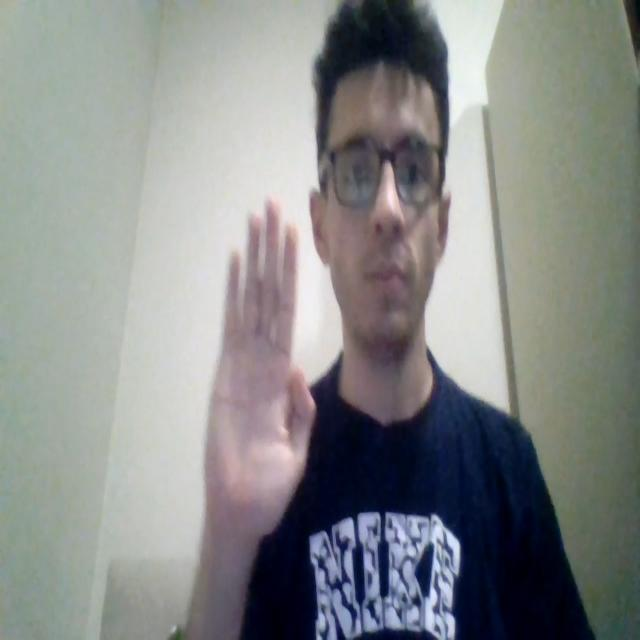hello: (203, 195, 317, 545)
